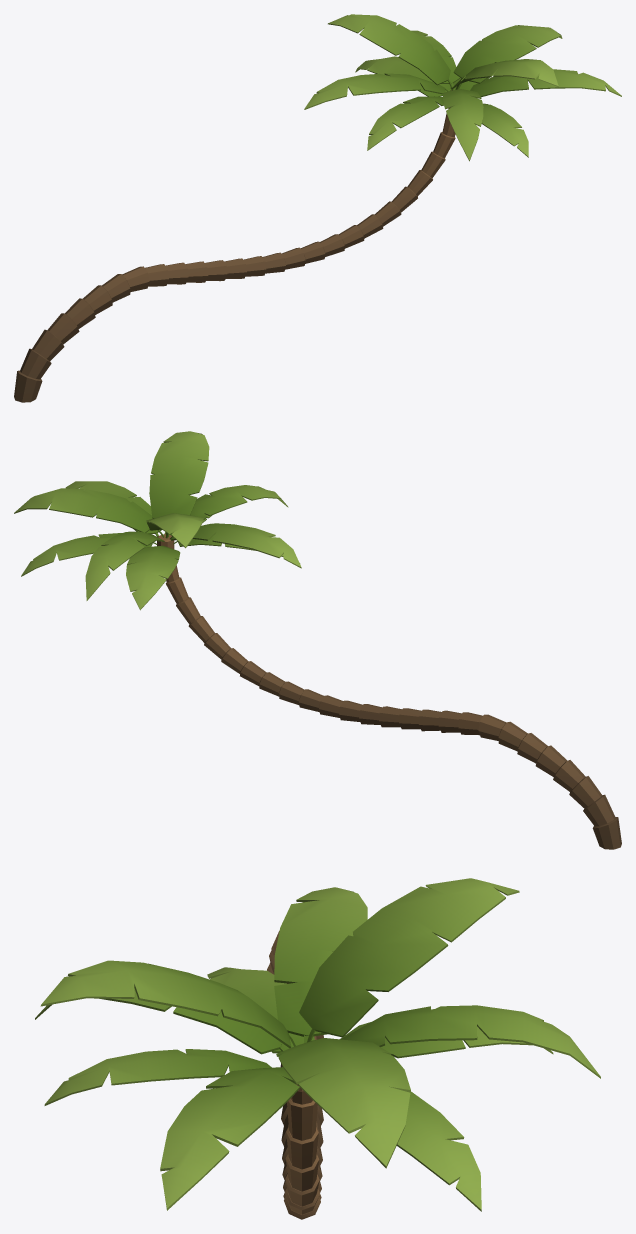
Rendered from PalmTree_04.fbx.
3 renders of one model, top to bottom at view 1: azimuth 30°, elevation 25°; view 2: azimuth 150°, elevation 25°; view 3: azimuth 270°, elevation 25°, orthographic. The views are drawn at different scales.
Visible parts, largest first — view 1: PalmTree_04_LOD0; view 2: PalmTree_04_LOD0; view 3: PalmTree_04_LOD0.
Part boxes in pixels (x1,y1,x2,y2): PalmTree_04_LOD0: (14,14,621,402); PalmTree_04_LOD0: (14,431,621,849); PalmTree_04_LOD0: (35,878,600,1219).
Size of what is drawn, in the model's own units: 6.81 by 2.89 by 2.9.
